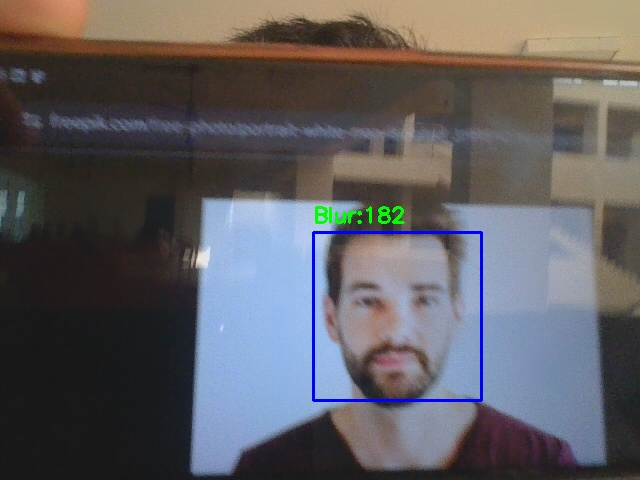fake: (313, 232, 481, 400)
